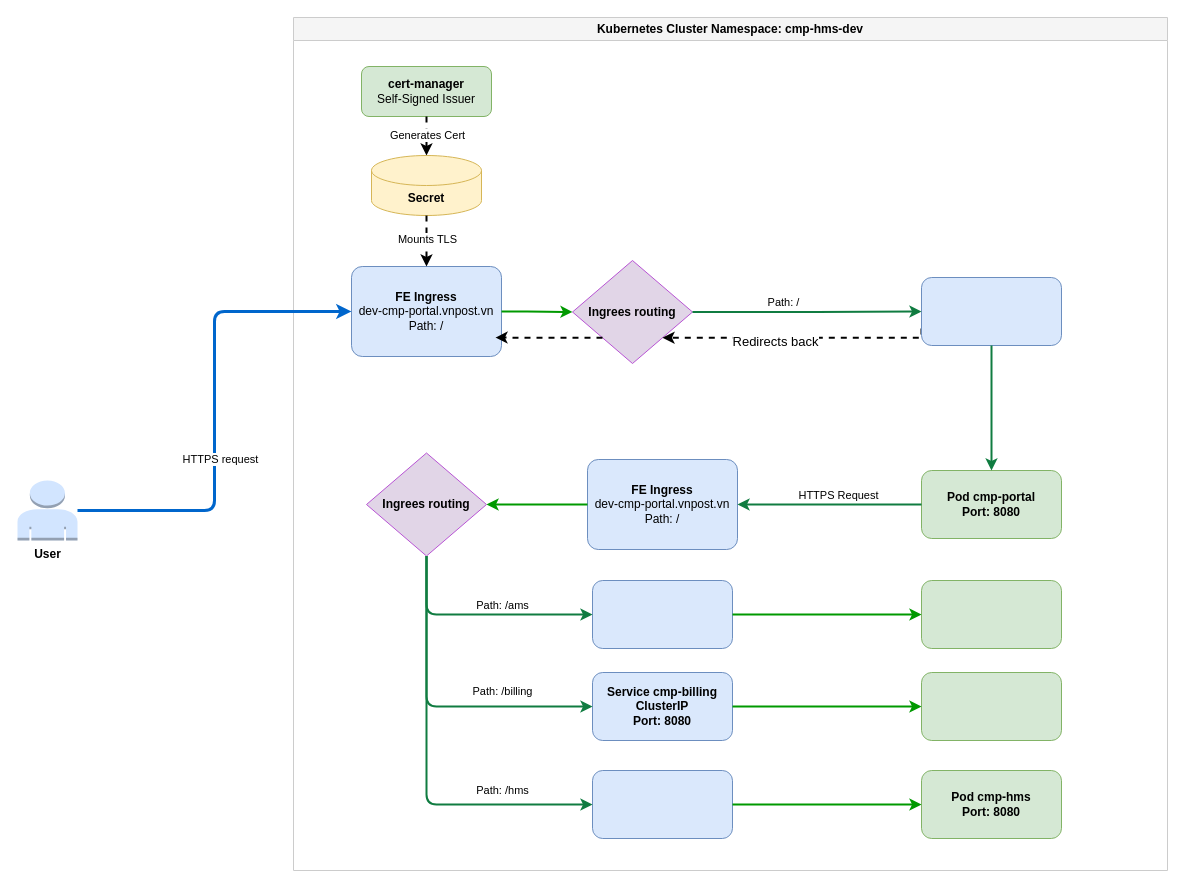
This 1185x888 diagram has some shape labels left out. The shapes that lost their labels are listed below. From the top down, each one's box as (x1, y1, x2, y2) in pixels, then its label:
(920, 276, 1062, 346): Service cmp-portal ClusterIP Port: 8080
(592, 580, 732, 648): Service cmp-ams ClusterIP Port: 8080
(920, 580, 1062, 648): Pod cmp-ams Port: 8080
(920, 672, 1062, 740): Pod cmp-billing Port: 8080
(592, 770, 732, 838): Service cmp-hms ClusterIP Port: 8080
